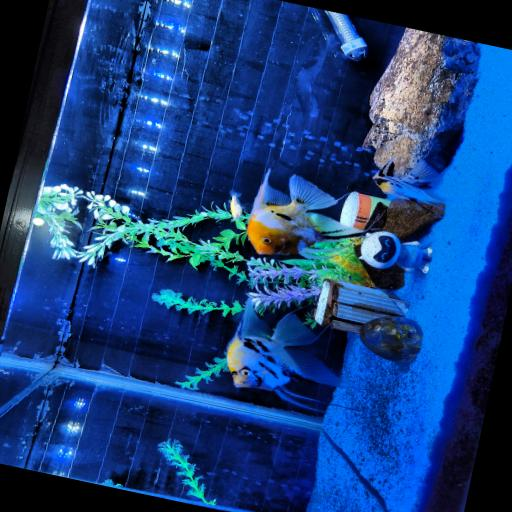Fish: (227, 300, 351, 410), (248, 169, 365, 258), (373, 158, 443, 214), (230, 190, 242, 220)
